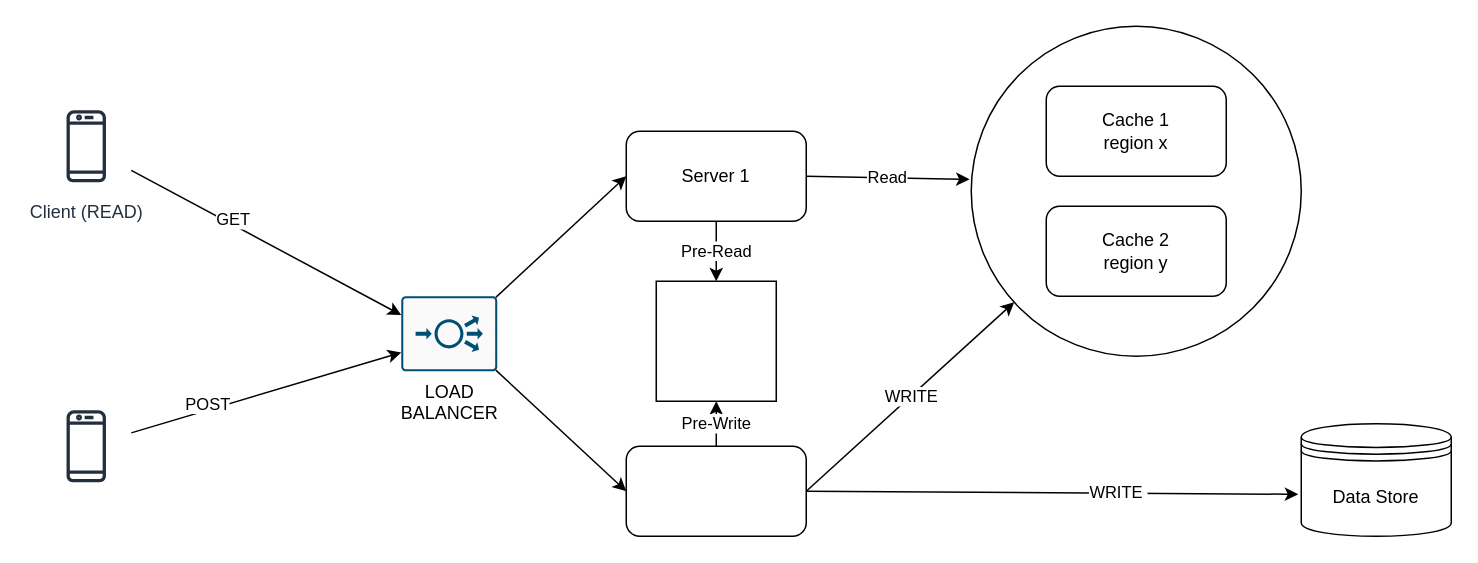
This 1478x563 diagram has some shape labels left out. Each missing label, with the centre of its shape:
Central Meta Registry: pixel 715 340
Client (WRITE): pixel 85 445
Server 3: pixel 715 490
